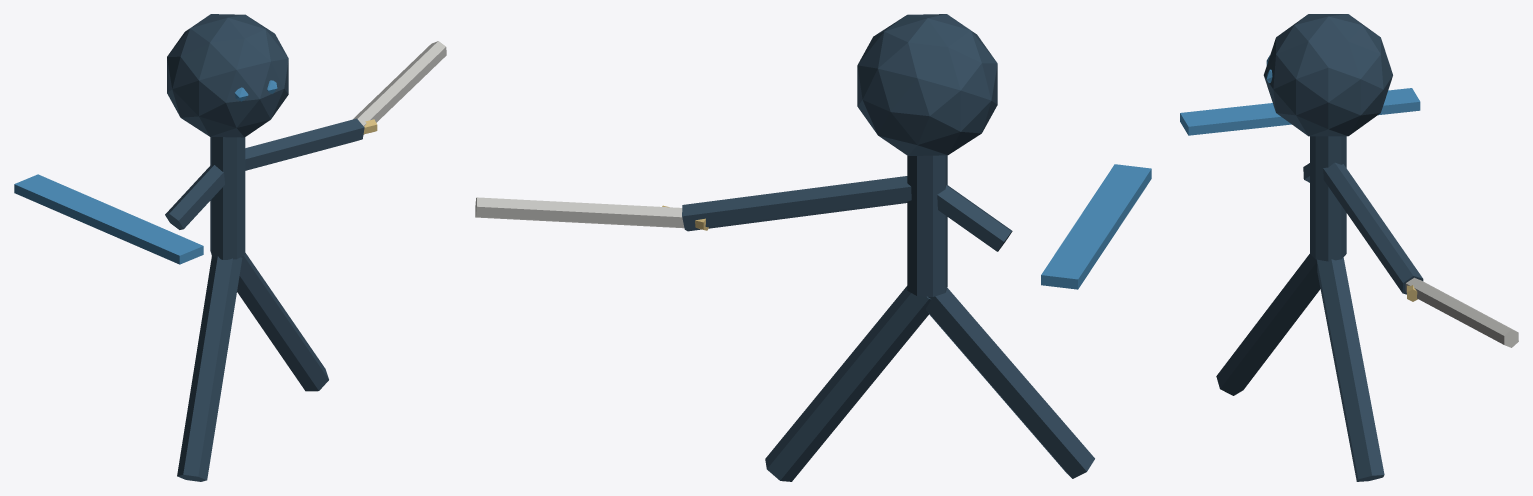
The model's file is player_stick_blue_sword.glb.
3 renders of one model, left to right at view 1: azimuth 30°, elevation 25°; view 2: azimuth 150°, elevation 25°; view 3: azimuth 270°, elevation 25°, orthographic. The views are drawn at different scales.
Parts seen in each view (by area): view 1: player_blue_head, player_blue_left_leg, player_blue_scarf, player_blue_right_leg, player_blue_torso, player_blue_right_arm, player_blue_sword_blade, player_blue_left_arm; view 2: player_blue_head, player_blue_right_leg, player_blue_left_leg, player_blue_right_arm, player_blue_scarf, player_blue_torso, player_blue_sword_blade, player_blue_left_arm; view 3: player_blue_head, player_blue_right_leg, player_blue_left_leg, player_blue_torso, player_blue_right_arm, player_blue_scarf, player_blue_sword_blade.
Part boxes in pixels (left/top/right/bottom): player_blue_head: left=167, top=14, right=288, bottom=137; player_blue_left_leg: left=177, top=256, right=242, bottom=481; player_blue_scarf: left=14, top=174, right=203, bottom=264; player_blue_right_leg: left=237, top=253, right=328, bottom=391; player_blue_torso: left=210, top=137, right=245, bottom=259; player_blue_right_arm: left=245, top=118, right=364, bottom=170; player_blue_sword_blade: left=353, top=41, right=446, bottom=134; player_blue_left_arm: left=165, top=165, right=224, bottom=229; player_blue_head: left=857, top=14, right=997, bottom=155; player_blue_right_leg: left=765, top=286, right=931, bottom=481; player_blue_left_leg: left=926, top=287, right=1094, bottom=478; player_blue_right_arm: left=682, top=176, right=911, bottom=231; player_blue_scarf: left=1041, top=164, right=1151, bottom=289; player_blue_torso: left=907, top=155, right=947, bottom=296; player_blue_sword_blade: left=475, top=197, right=684, bottom=228; player_blue_left_arm: left=937, top=185, right=1012, bottom=251; player_blue_head: left=1263, top=14, right=1392, bottom=136; player_blue_right_leg: left=1316, top=257, right=1384, bottom=481; player_blue_left_leg: left=1216, top=254, right=1320, bottom=395; player_blue_torso: left=1310, top=136, right=1346, bottom=261; player_blue_right_arm: left=1323, top=162, right=1423, bottom=294; player_blue_scarf: left=1180, top=88, right=1420, bottom=135; player_blue_sword_blade: left=1405, top=277, right=1518, bottom=347.
Size of the model in its own units: 1.98 by 1.63 by 1.2.
